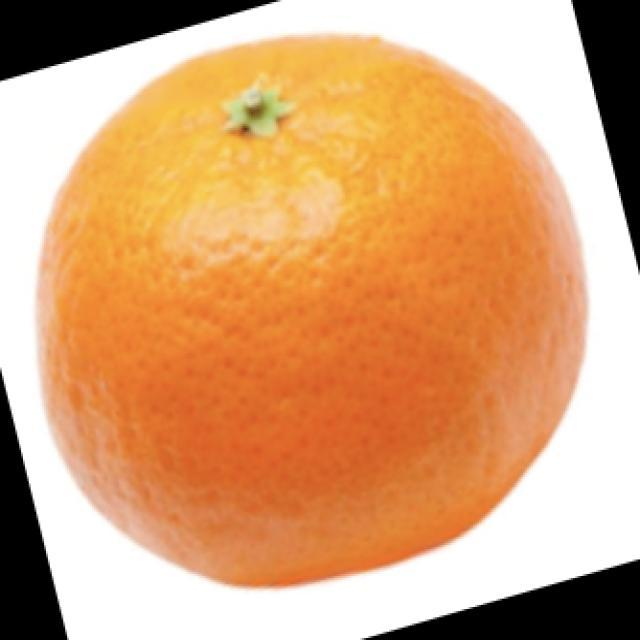matang: (42, 37, 585, 583)
